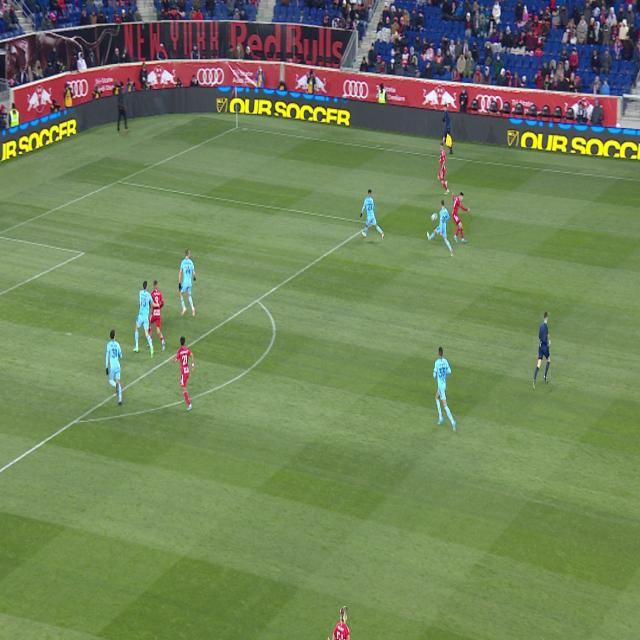football: (431, 214, 438, 222)
player: (133, 281, 160, 358), (433, 347, 456, 433), (171, 336, 194, 411), (427, 199, 454, 256), (106, 329, 122, 405), (360, 189, 384, 239), (179, 249, 196, 316), (149, 280, 165, 351), (452, 192, 470, 243), (437, 142, 449, 195), (332, 607, 350, 639), (149, 301, 151, 309), (147, 342, 150, 347), (328, 637, 329, 640)
referee: (533, 312, 551, 390)
